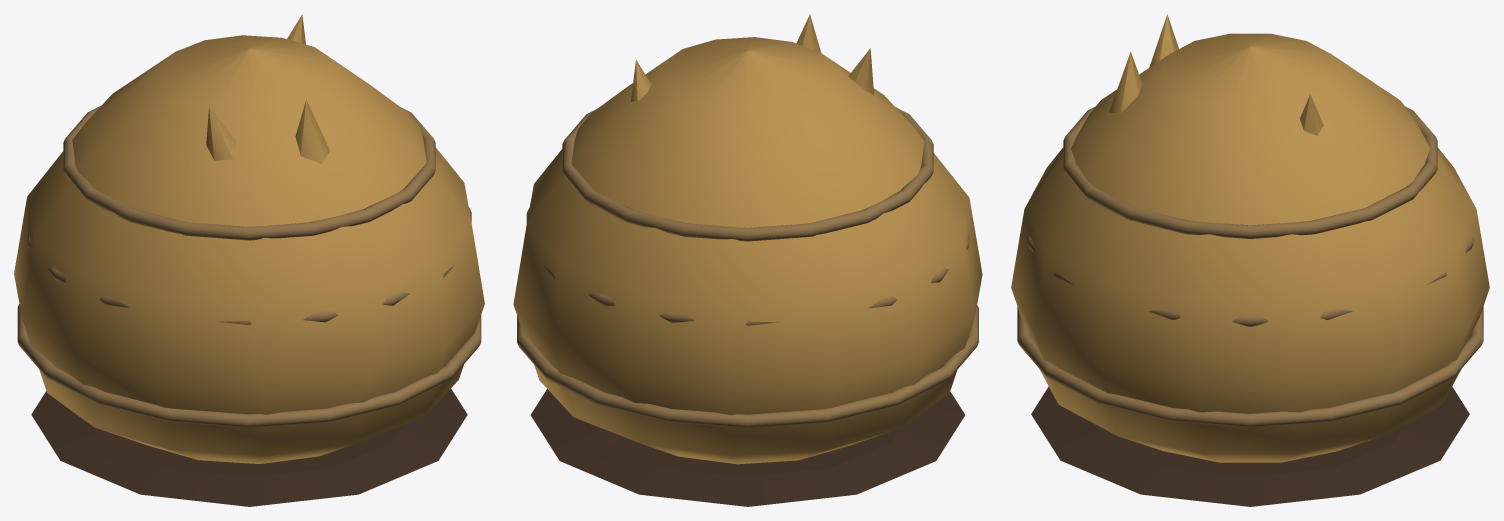
The model's file is sk_haystack.glb.
3 renders of one model, left to right at view 1: azimuth 30°, elevation 25°; view 2: azimuth 150°, elevation 25°; view 3: azimuth 270°, elevation 25°, orthographic.
Visible parts, largest first — view 1: straw, object 3, cloth; view 2: straw, object 3, cloth; view 3: straw, object 3, cloth.
Boxes of the visible parts, x1,y1,x2,y2 form: straw: [14, 14, 484, 463]; object 3: [31, 389, 467, 506]; cloth: [17, 106, 481, 427]; straw: [513, 14, 982, 464]; object 3: [530, 389, 965, 506]; cloth: [517, 107, 978, 428]; straw: [1011, 14, 1489, 462]; object 3: [1031, 386, 1469, 506]; cloth: [1017, 106, 1483, 427].
Bounding box in the file's own units: 1.42 × 1.22 × 1.44.
